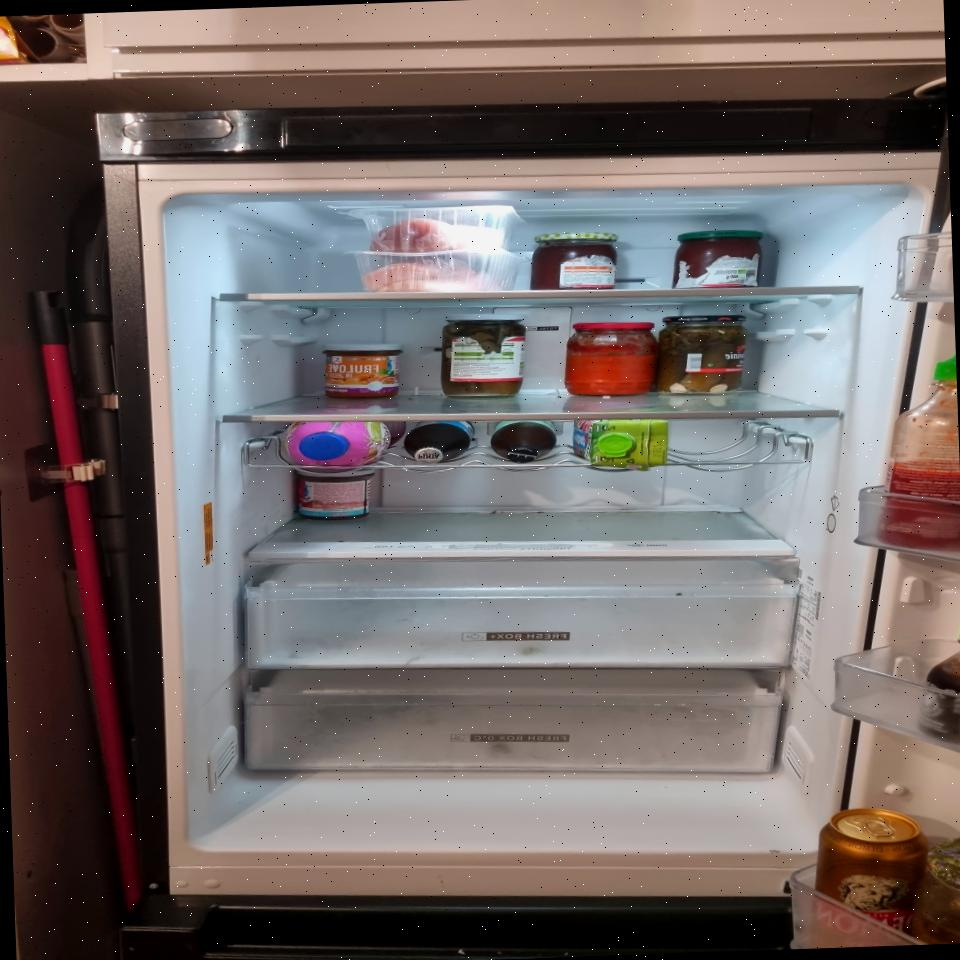Carne pollo: (355, 204, 523, 255), (354, 248, 520, 297)
